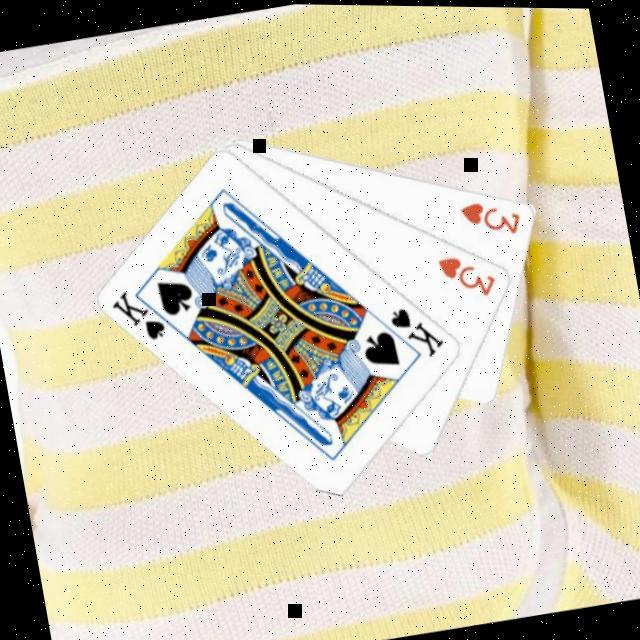3H: (435, 245, 503, 308), (458, 190, 528, 245)
KS: (108, 279, 183, 350), (387, 298, 452, 367)
